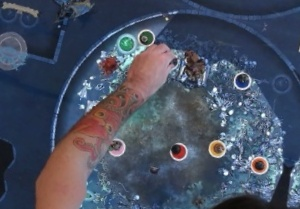blue: (229, 68, 257, 93)
green: (136, 25, 160, 49)
orange: (248, 151, 274, 177)
pink: (106, 134, 131, 159)
red: (166, 136, 192, 165)
violet: (163, 52, 183, 73)
yellow: (204, 136, 232, 161)
